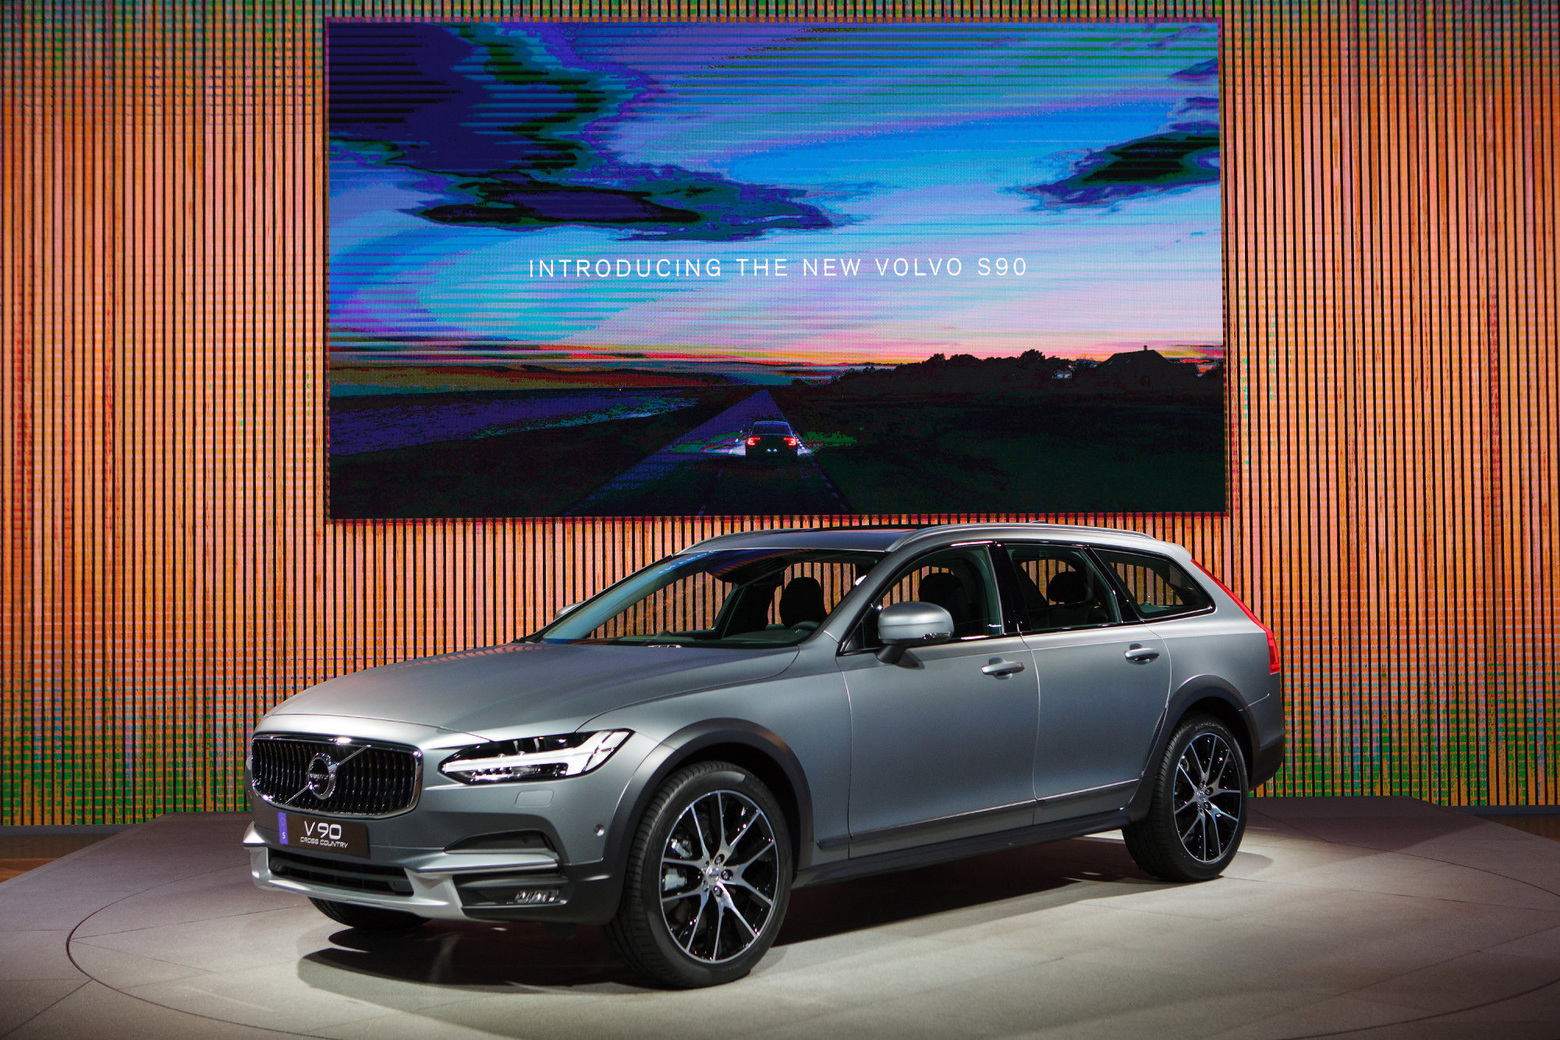car: (241, 523, 1290, 985)
